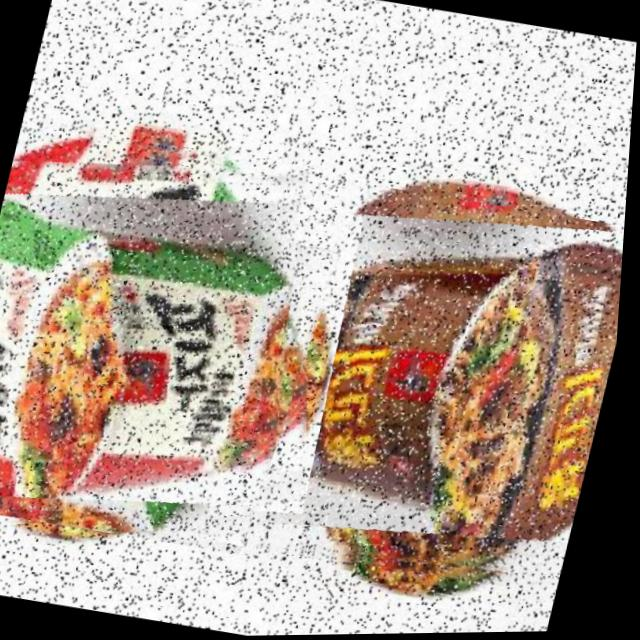Miscellaneous: (224, 172, 630, 603), (0, 107, 371, 564)
